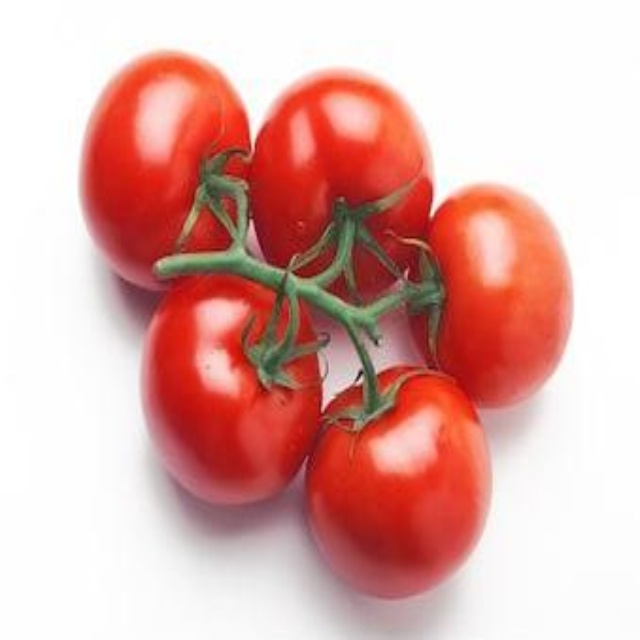tomato: (138, 267, 328, 511), (241, 70, 422, 304), (309, 375, 489, 601), (84, 51, 247, 281), (414, 188, 565, 406)
